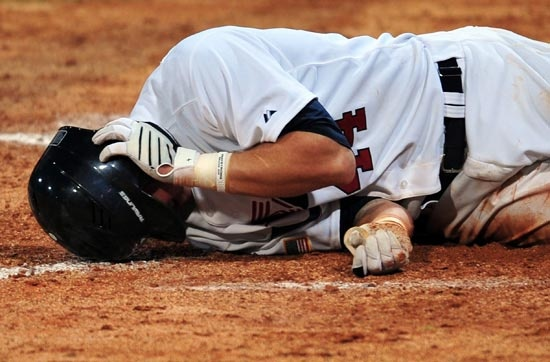falling: (17, 8, 545, 280)
